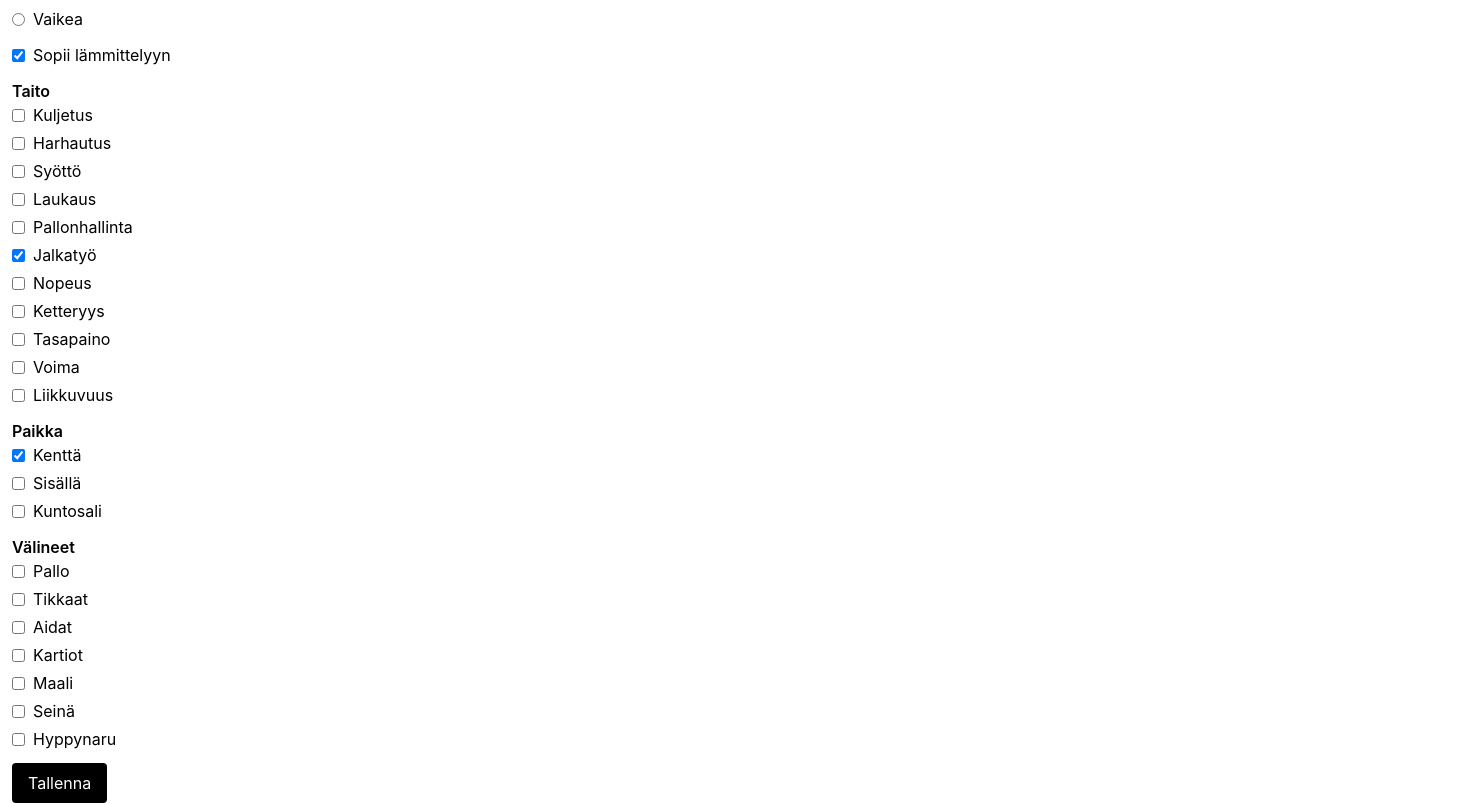
Test: ExerciseForm › shows a count's refusal, and the action's message
(page scrolled)
Click the button "Tallenna".
click(60, 783)  # box [12,763,107,802]
(page scrolled)
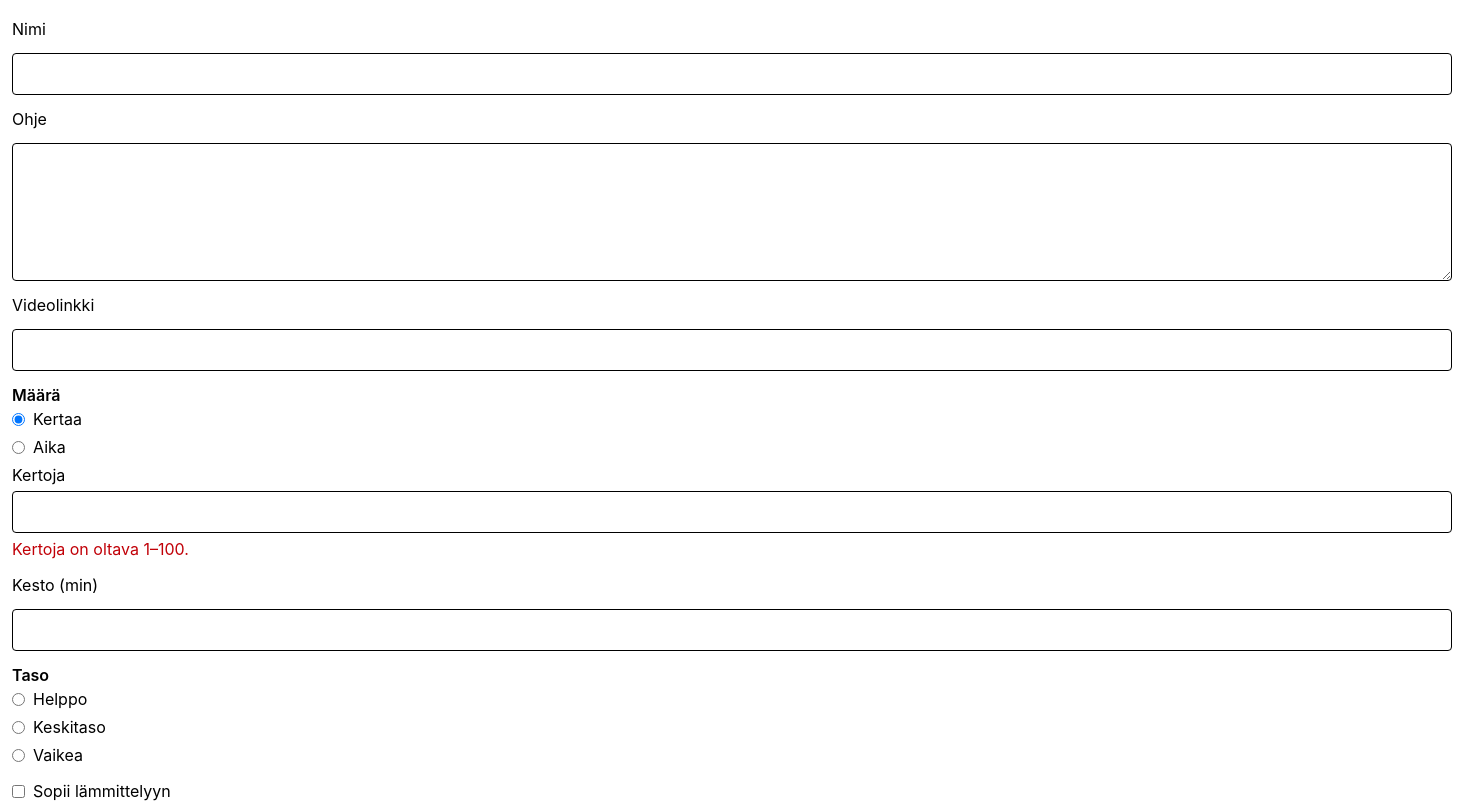
Expected: the message reads "Kertoja on oltava 1–100.", [12,539,189,559]
Expected: the field labelled "Nimi" is empty, [12,53,1452,95]
